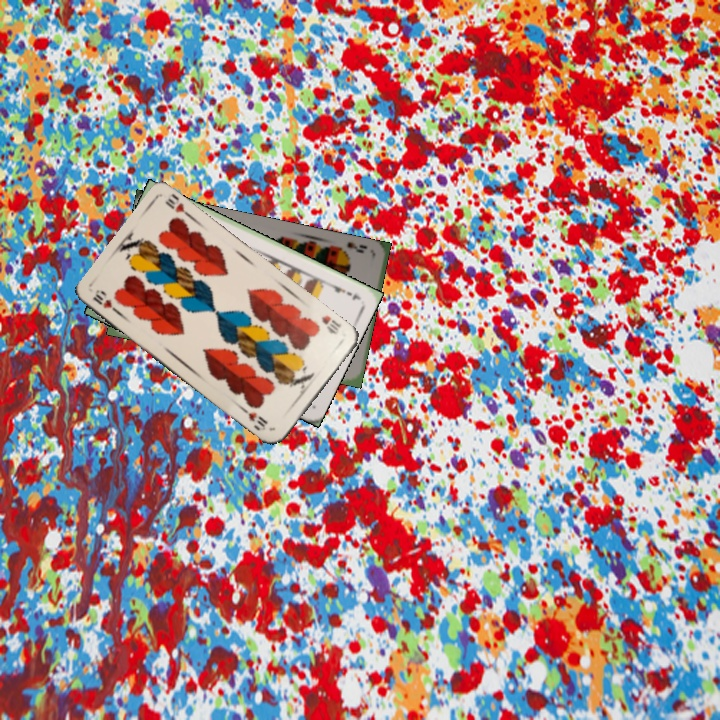E7: (324, 279, 363, 303)
H10: (89, 286, 123, 318), (317, 311, 344, 337)
S9: (332, 237, 370, 257)
